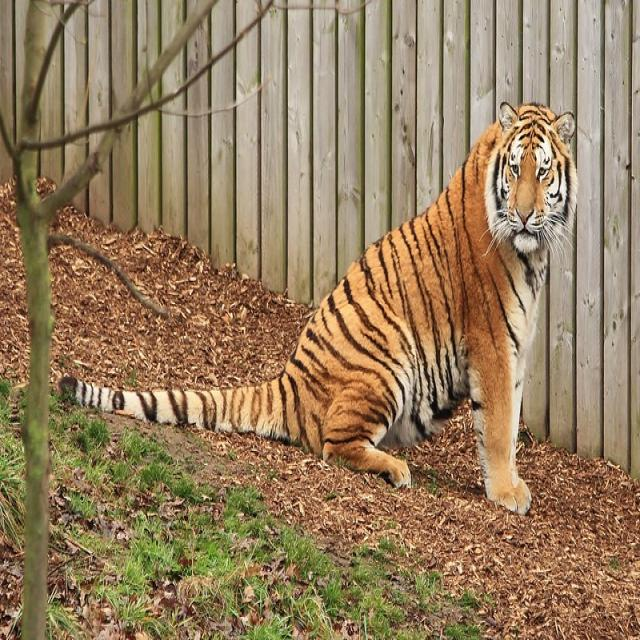Tiger: (61, 98, 578, 511)
